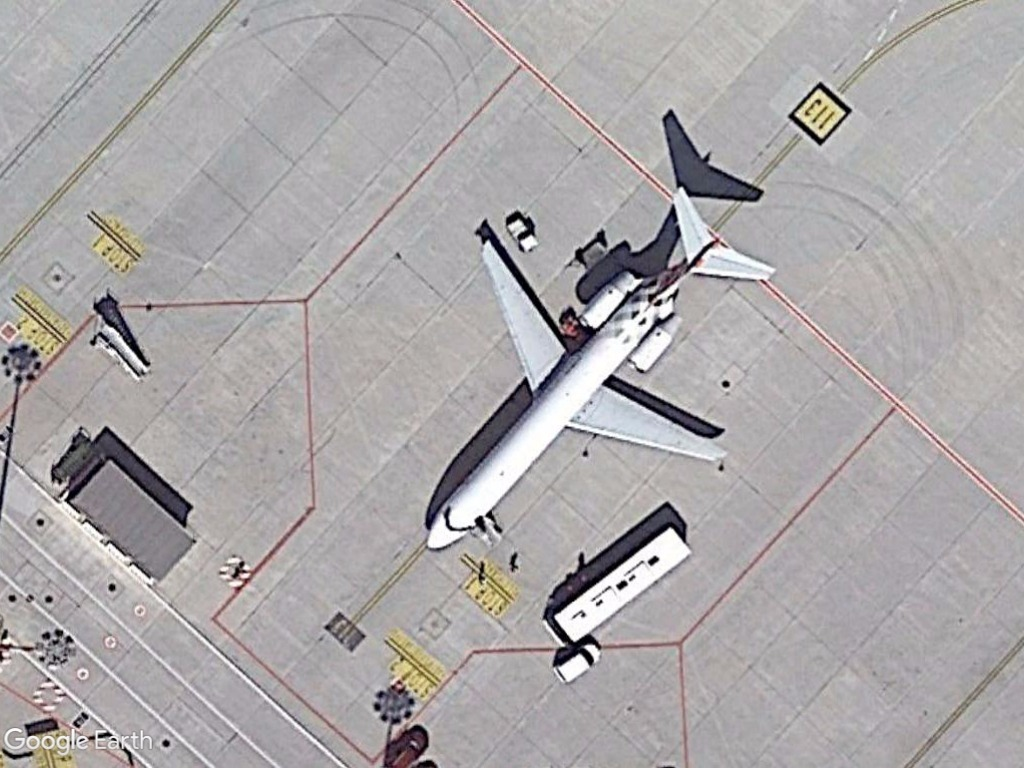bus: (531, 520, 701, 653)
chartered: (381, 177, 798, 553)
stairtruck: (82, 304, 158, 389)
van: (550, 638, 608, 690)
